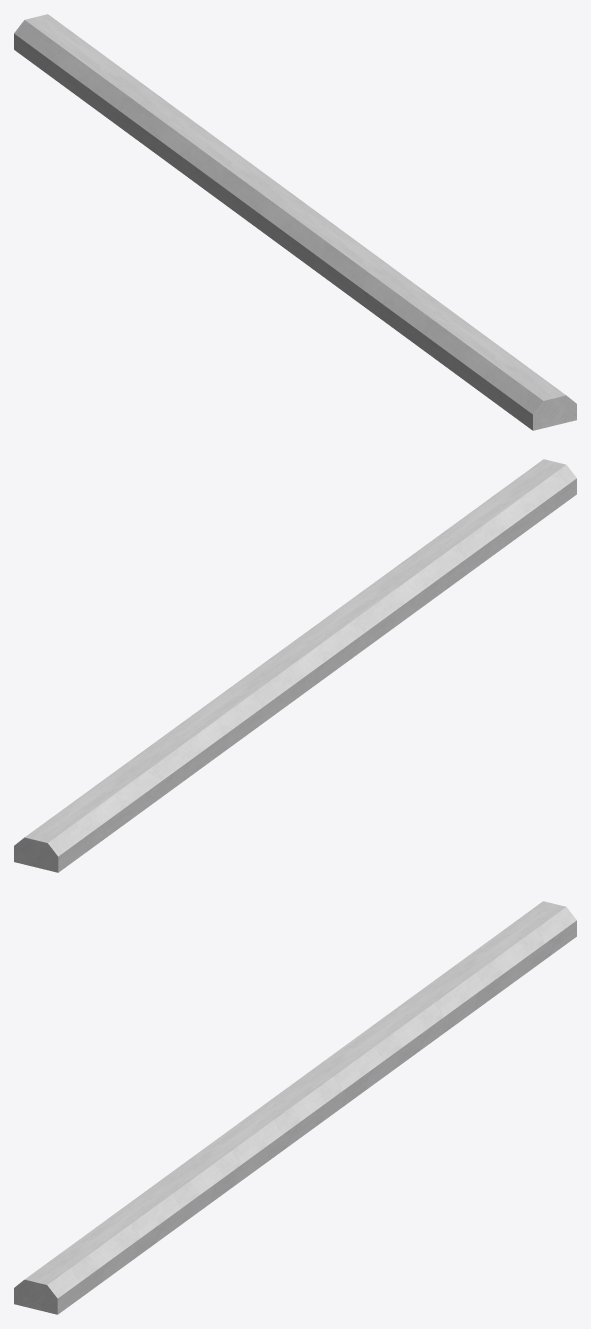
The model's file is Frame_A.fbx.
The picture shows the model from 3 angles, top to bottom: view 1: azimuth 30°, elevation 25°; view 2: azimuth 150°, elevation 25°; view 3: azimuth 330°, elevation 25°; orthographic projection.
Parts seen in each view (by area): view 1: Frame_A; view 2: Frame_A; view 3: Frame_A.
Boxes of the visible parts, x1,y1,x2,y2 form: Frame_A: (14,14,576,430); Frame_A: (14,459,576,872); Frame_A: (14,901,576,1314).
Size of the model in its own units: 26.02 by 14.83 by 512.
Materials: 1 (1 with a texture image).
